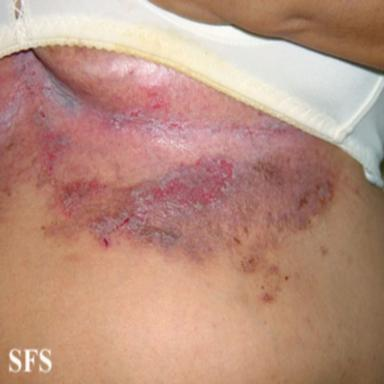Hailey-Hailey-Disease: (0, 49, 335, 270)
